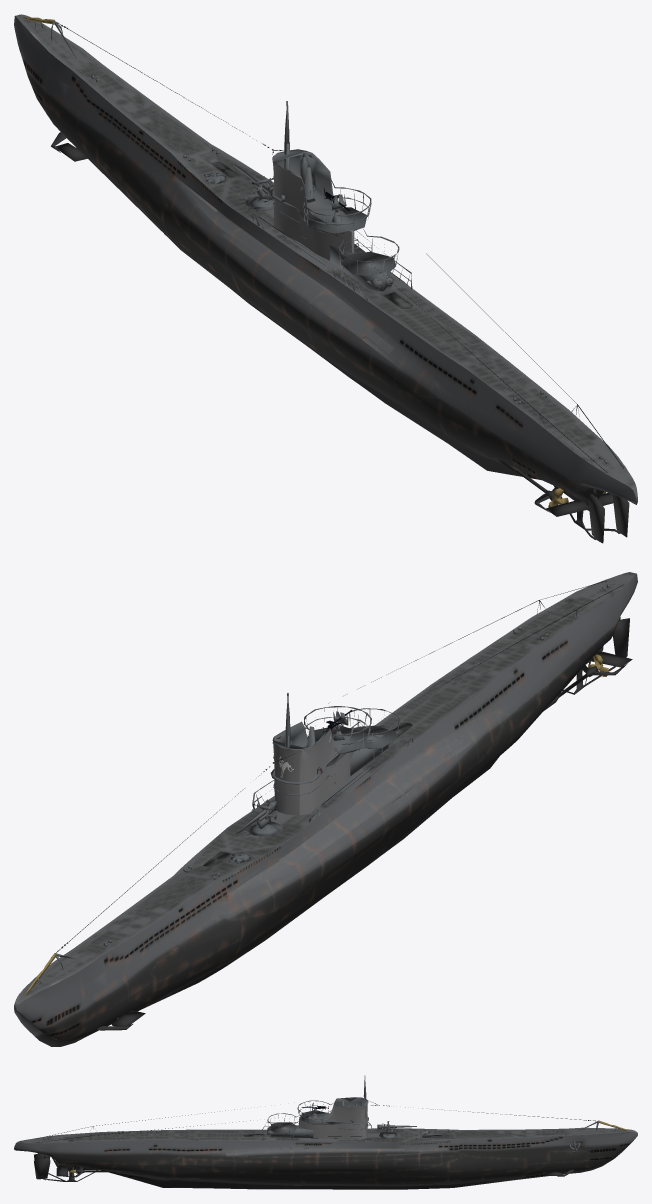
The model's file is submarine.obj.
3 renders of one model, top to bottom at view 1: azimuth 30°, elevation 25°; view 2: azimuth 150°, elevation 25°; view 3: azimuth 270°, elevation 25°, orthographic. The views are drawn at different scales.
Parts seen in each view (by area): view 1: Type_VII_Hull_46331.Shape_Type_VII_Hull_46331; view 2: Type_VII_Hull_46331.Shape_Type_VII_Hull_46331; view 3: Type_VII_Hull_46331.Shape_Type_VII_Hull_46331.
Boxes of the visible parts, x1,y1,x2,y2 form: Type_VII_Hull_46331.Shape_Type_VII_Hull_46331: (14,14,637,543); Type_VII_Hull_46331.Shape_Type_VII_Hull_46331: (14,572,637,1046); Type_VII_Hull_46331.Shape_Type_VII_Hull_46331: (14,1075,637,1189).
Bounding box in the file's own units: 449 × 942 × 4718.
Materials: 25 (11 with a texture image).
